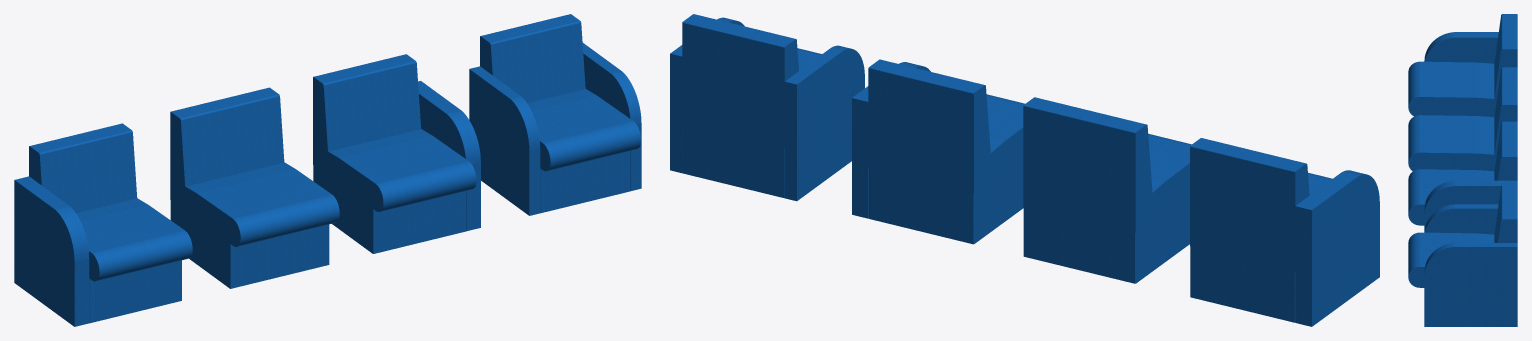
File: reception.dae
3 renders of one model, left to right at view 1: azimuth 30°, elevation 25°; view 2: azimuth 150°, elevation 25°; view 3: azimuth 270°, elevation 25°, orthographic. The views are drawn at different scales.
Visible parts, largest first — view 1: group_8, group_7, group_12, group_1, group_11, group_17, group_2, group_18, group_4, group_6, group_16, group_13 (+4 smaller); view 2: group_8, group_12, group_2, group_18, group_1, group_17, group_6, group_13, group_3, group_19, group_7, group_11 (+2 smaller); view 3: group_15, group_7, group_4, group_1, group_10, group_17, group_11, group_16, group_8, group_2, group_12, group_18.
Boxes of the visible parts, box(x1,y1,x2,y2) form: group_8: box(170, 87, 284, 210); group_7: box(185, 162, 339, 246); group_12: box(313, 54, 420, 175); group_1: box(14, 176, 89, 326); group_11: box(328, 129, 476, 211); group_17: box(469, 66, 540, 215); group_2: box(29, 123, 137, 212); group_18: box(480, 14, 585, 102); group_4: box(76, 198, 192, 281); group_6: box(170, 200, 329, 288); group_16: box(527, 89, 640, 171); group_13: box(313, 165, 465, 253); group_8: box(1023, 97, 1152, 232); group_12: box(868, 59, 990, 193); group_2: box(1190, 138, 1309, 271); group_18: box(682, 14, 798, 146); group_1: box(1295, 170, 1379, 326); group_17: box(784, 45, 864, 201); group_6: box(1023, 193, 1189, 283); group_13: box(869, 157, 1023, 244); group_3: box(1190, 246, 1295, 322); group_19: box(682, 122, 784, 198); group_7: box(1148, 134, 1191, 219); group_11: box(986, 94, 1024, 180); group_15: box(1424, 243, 1517, 326); group_7: box(1408, 115, 1494, 171); group_4: box(1408, 61, 1494, 116); group_1: box(1424, 32, 1498, 63); group_10: box(1424, 180, 1517, 232); group_17: box(1424, 204, 1498, 234); group_11: box(1408, 169, 1494, 225); group_16: box(1408, 232, 1494, 287); group_8: box(1494, 67, 1517, 170); group_2: box(1494, 14, 1517, 116); group_12: box(1494, 121, 1517, 180); group_18: box(1494, 185, 1517, 242).
Size of the model in its own units: 129 by 27.84 by 29.13.
1 material, 1 textured.
